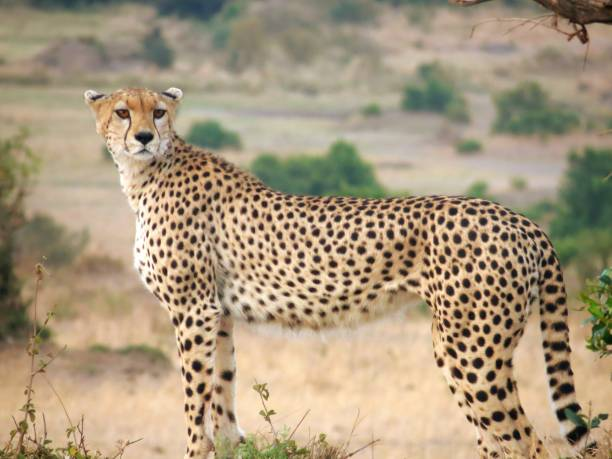cheetah: (73, 79, 198, 170)
